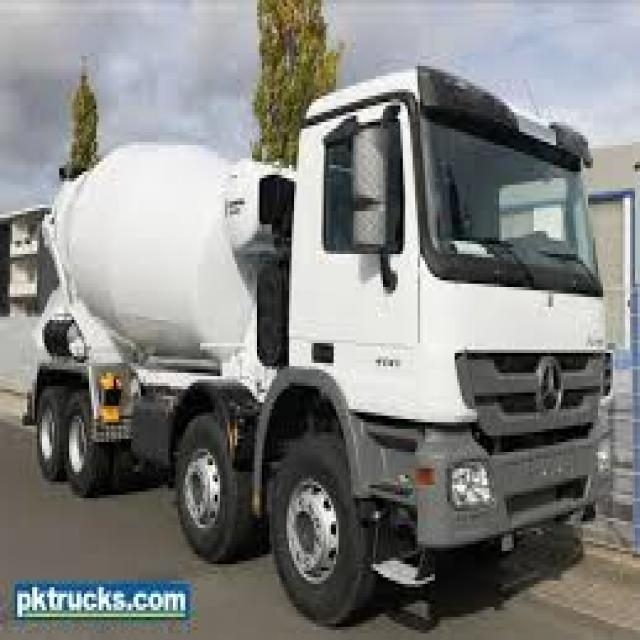Mixer Truck: (21, 57, 612, 630)
